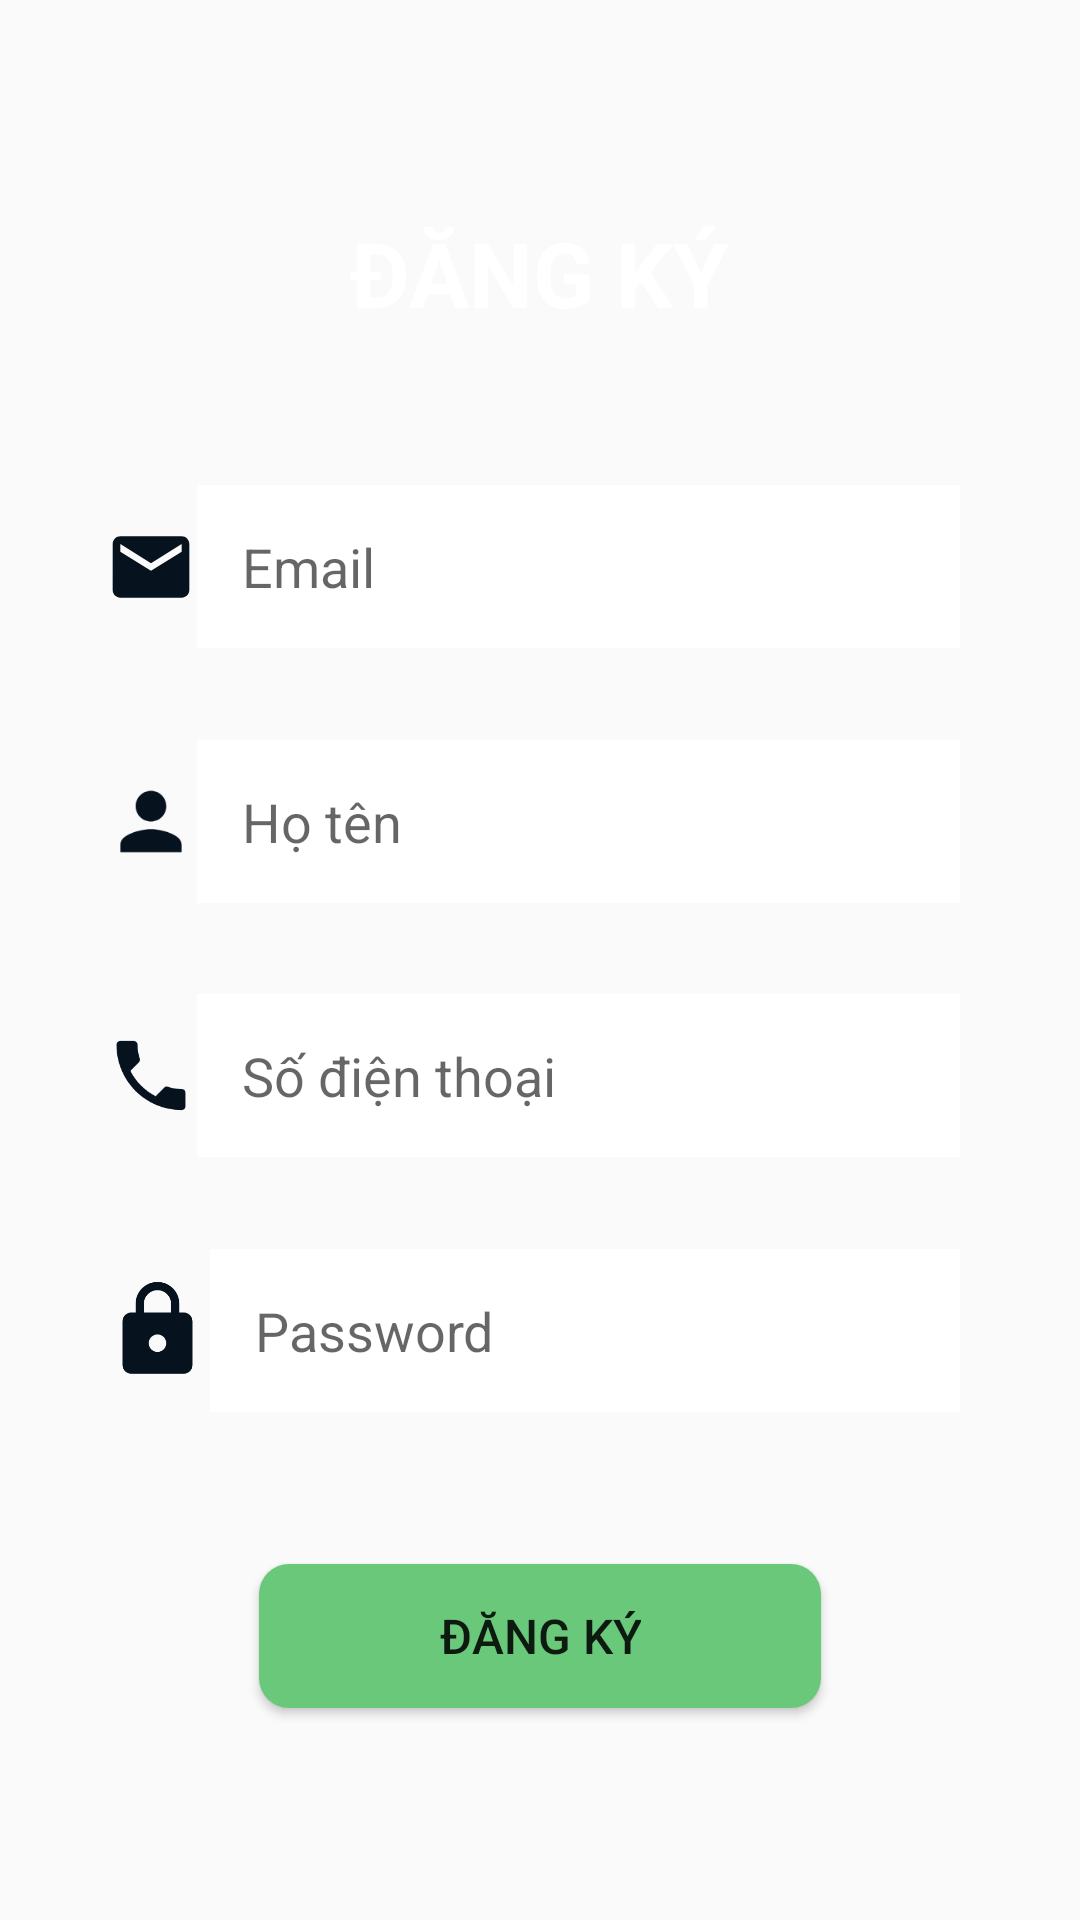

Locate icon controls on the screen. Image size 1080px×1920px, boxes as (x1, y1, x2, y2).
lock: (122, 1282, 193, 1374)
person: (120, 790, 182, 853)
phone: (116, 1040, 186, 1110)
